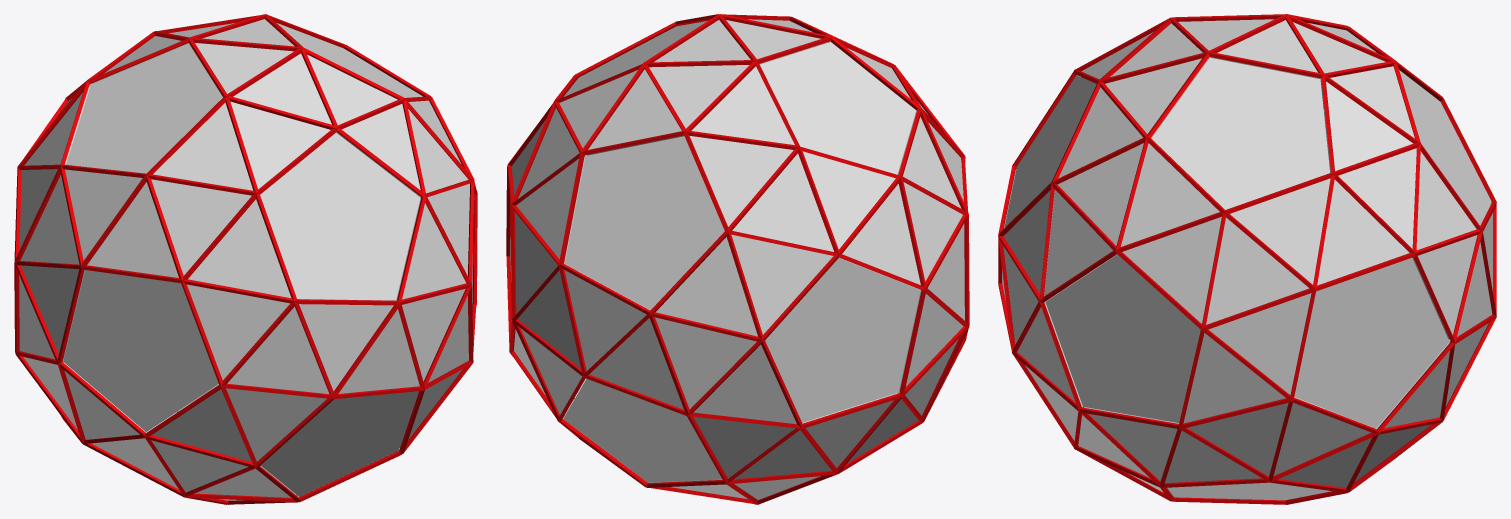
3 renders of one model, left to right at view 1: azimuth 30°, elevation 25°; view 2: azimuth 150°, elevation 25°; view 3: azimuth 270°, elevation 25°, orthographic. The views are drawn at different scales.
Parts seen in each view (by area): view 1: SnubEdges.001, Pent_06, Pent_12, Pent_09, Pent_08, Tri_054, Tri_059, Tri_056, Tri_058, Tri_071, Tri_055, Tri_057 (+29 smaller); view 2: SnubEdges.001, Pent_03, Pent_10, Pent_09, Pent_05, Tri_033, Tri_028, Tri_032, Tri_031, Tri_030, Tri_069, Tri_050 (+29 smaller); view 3: SnubEdges.001, Pent_01, Pent_07, Pent_02, Tri_014, Tri_002, Tri_015, Tri_018, Tri_011, Tri_003, Pent_06, Pent_03 (+30 smaller).
Boxes of the visible parts, x1,y1,x2,y2 form: SnubEdges.001: (14, 14, 477, 504); Pent_06: (260, 132, 420, 300); Pent_12: (63, 270, 218, 431); Pent_09: (66, 43, 222, 173); Pent_08: (261, 391, 418, 496); Tri_054: (188, 199, 291, 298); Tri_059: (187, 284, 289, 379); Tri_056: (151, 179, 251, 275); Tri_058: (227, 306, 329, 394); Tri_071: (87, 182, 178, 277); Tri_055: (153, 102, 253, 190); Tri_057: (299, 304, 393, 391); SnubEdges.001: (506, 14, 969, 504); Pent_03: (564, 136, 724, 309); Pent_10: (765, 257, 920, 422); Pent_09: (760, 42, 915, 174); Pent_05: (563, 378, 721, 482); Tri_033: (731, 234, 833, 334); Tri_028: (656, 237, 757, 336); Tri_032: (732, 153, 833, 251); Tri_031: (689, 136, 793, 226); Tri_030: (655, 317, 756, 409); Tri_069: (802, 151, 895, 249); Tri_050: (693, 344, 796, 424); SnubEdges.001: (998, 14, 1496, 504); Pent_01: (1151, 57, 1329, 209); Pent_07: (1045, 254, 1200, 422); Pent_02: (1294, 258, 1449, 428); Tri_014: (1206, 217, 1309, 324); Tri_002: (1230, 178, 1330, 284); Tri_015: (1122, 216, 1221, 323); Tri_018: (1208, 293, 1311, 394); Tri_011: (1120, 143, 1219, 246); Tri_003: (1317, 179, 1409, 285); Pent_06: (1004, 75, 1096, 227); Pent_03: (1399, 70, 1491, 224).
Size of the model in its own units: 20.02 by 20.06 by 20.04.
